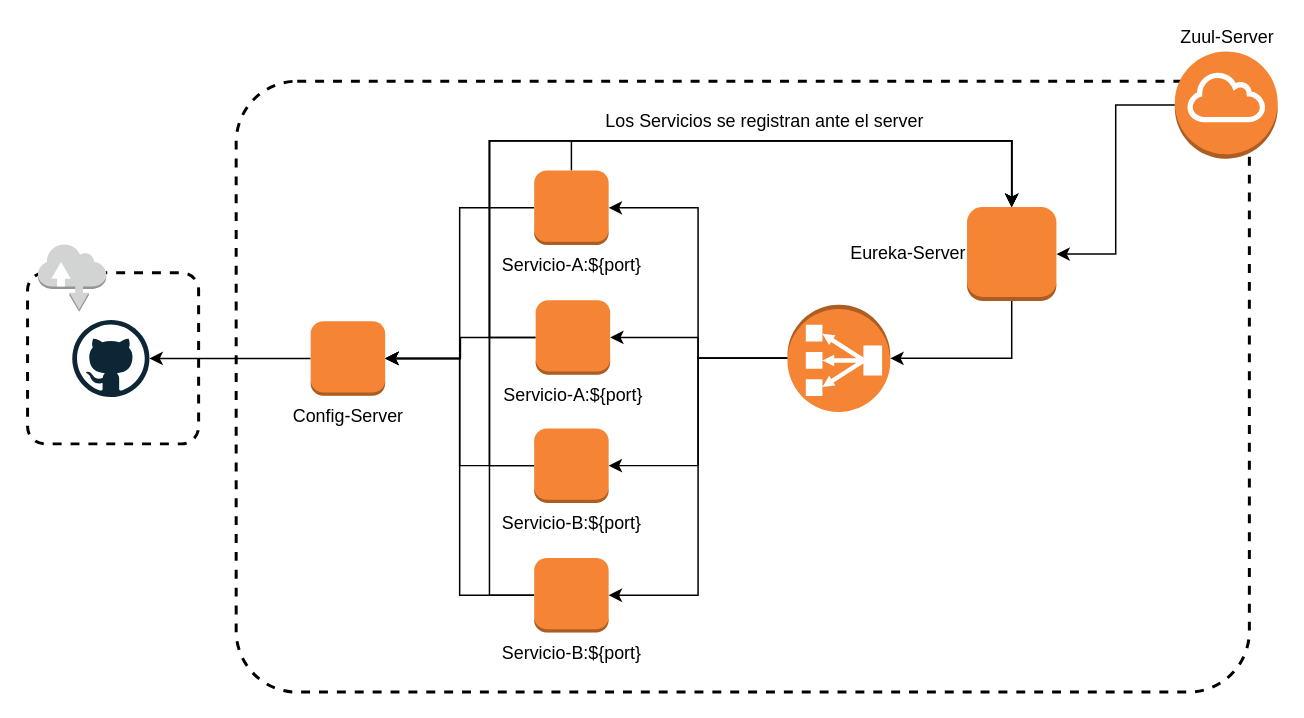
Some shapes in this 1304 by 718 pixel diagram are drawn without their labels. The centre of each missing label's shape, as x and y in pixels:
Balanceador Ribbon-Feign: [838,357]
GitHub: [110,357]
Internet: [71,277]
